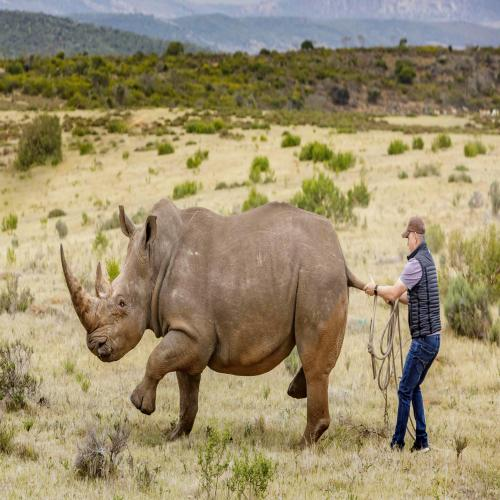rhino-endangered: (60, 198, 352, 438)
